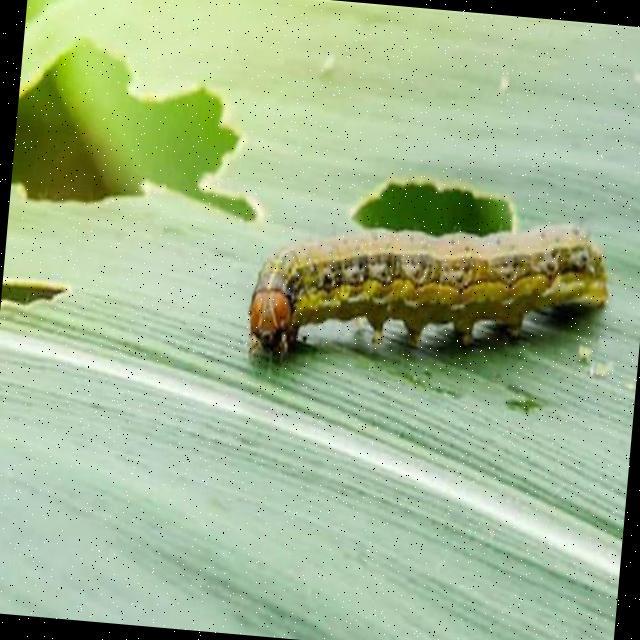worm: (244, 195, 616, 395)
